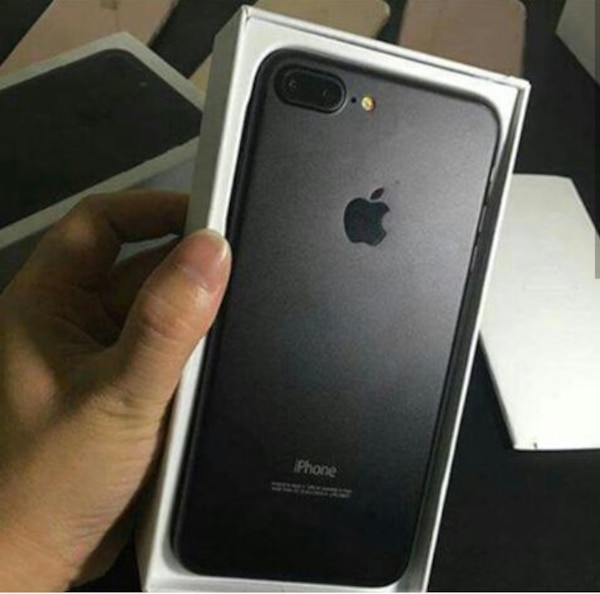apple: (334, 178, 405, 259)
